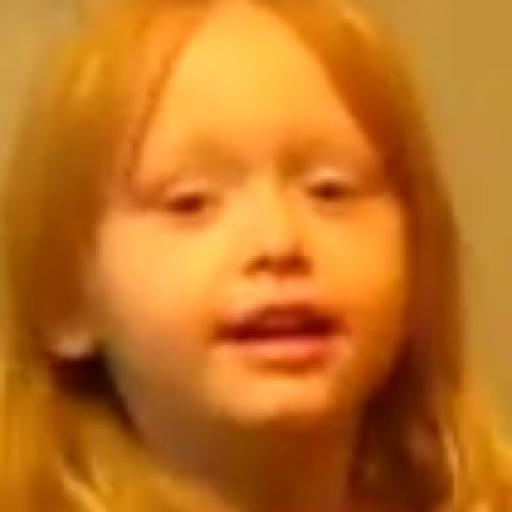Autism: (105, 42, 503, 435)
